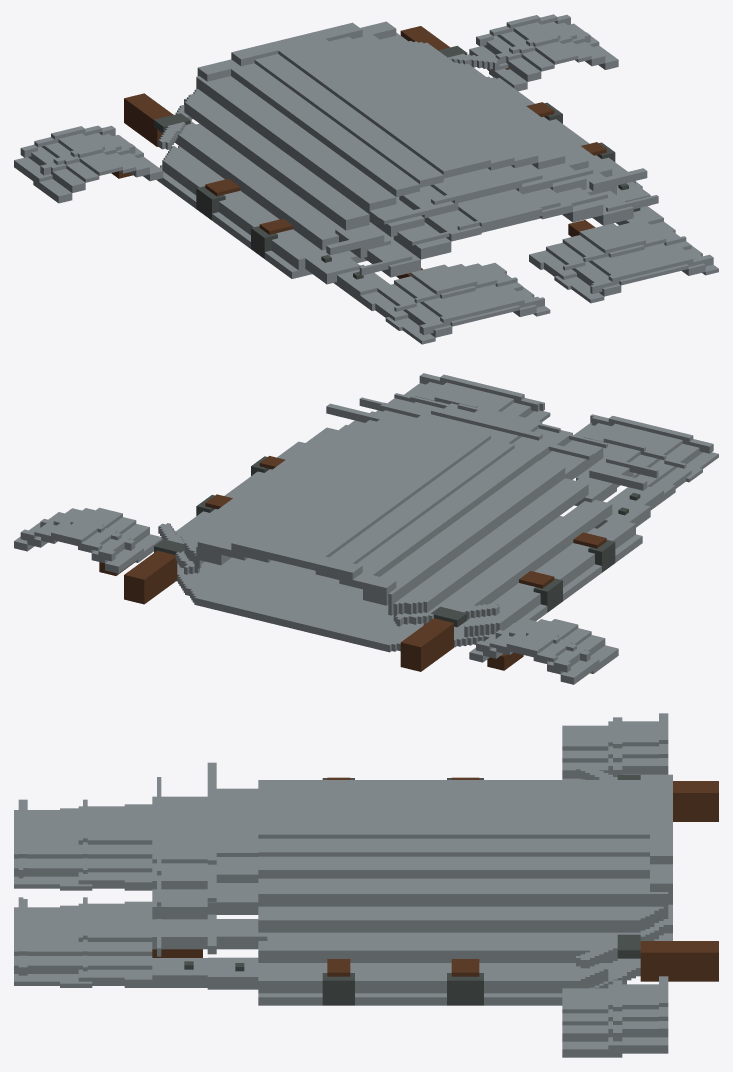
The model's file is armor_mc_chestplate.glb.
The picture shows the model from 3 angles, top to bottom: view 1: azimuth 30°, elevation 25°; view 2: azimuth 150°, elevation 25°; view 3: azimuth 270°, elevation 25°; orthographic projection. The views are drawn at different scales.
Parts seen in each view (by area): view 1: armor_mc_chestplate:compound; view 2: armor_mc_chestplate:compound; view 3: armor_mc_chestplate:compound.
Part boxes in pixels (box(x1,y1,x2,y2)): armor_mc_chestplate:compound: box(14, 14, 718, 344); armor_mc_chestplate:compound: box(14, 373, 718, 684); armor_mc_chestplate:compound: box(14, 713, 718, 1057).
Size of the model in its own units: 0.664 by 0.08 by 0.612.
